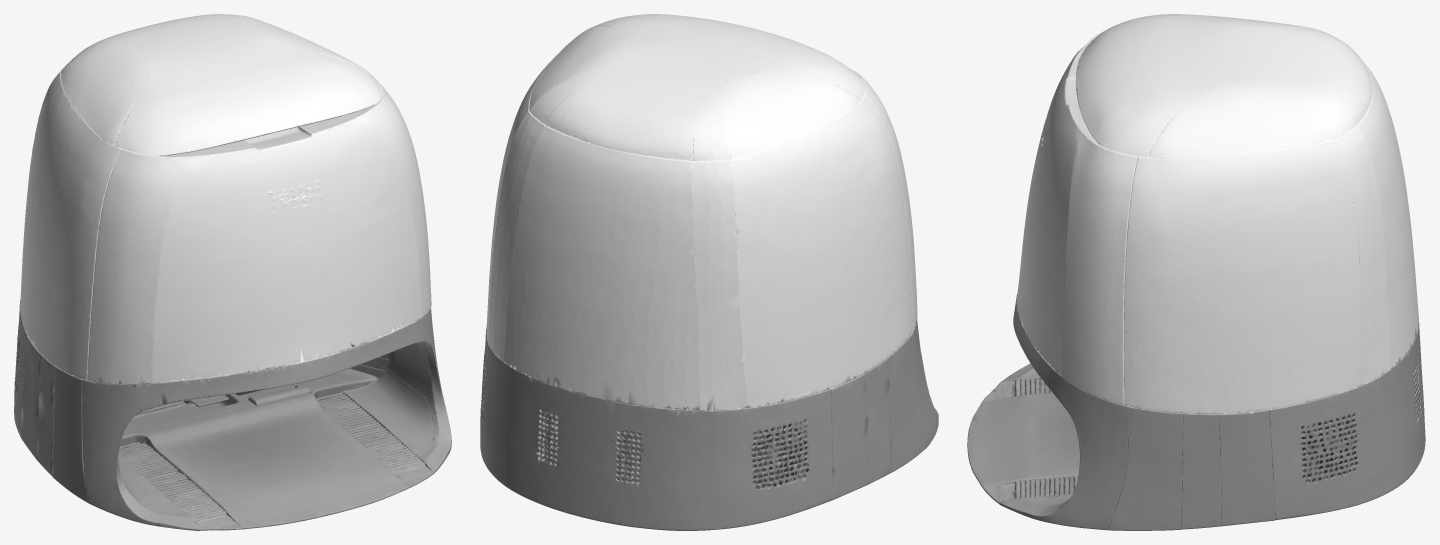
File: Roborock Qrevo Curv 2 Flow  DOCK_COMPRESSED.glb
3 renders of one model, left to right at view 1: azimuth 30°, elevation 25°; view 2: azimuth 150°, elevation 25°; view 3: azimuth 270°, elevation 25°, orthographic. The views are drawn at different scales.
Visible parts, largest first — view 1: tripo_node_232b3767-0bbf-4ebf-b211-d1acb777463a; view 2: tripo_node_232b3767-0bbf-4ebf-b211-d1acb777463a; view 3: tripo_node_232b3767-0bbf-4ebf-b211-d1acb777463a.
Boxes of the visible parts, x1,y1,x2,y2 form: tripo_node_232b3767-0bbf-4ebf-b211-d1acb777463a: (14,14,451,530); tripo_node_232b3767-0bbf-4ebf-b211-d1acb777463a: (480,14,938,530); tripo_node_232b3767-0bbf-4ebf-b211-d1acb777463a: (967,14,1425,530).
Bounding box in the file's own units: 0.929 × 0.9257 × 0.9803.
Materials: 1 (1 with a texture image).
